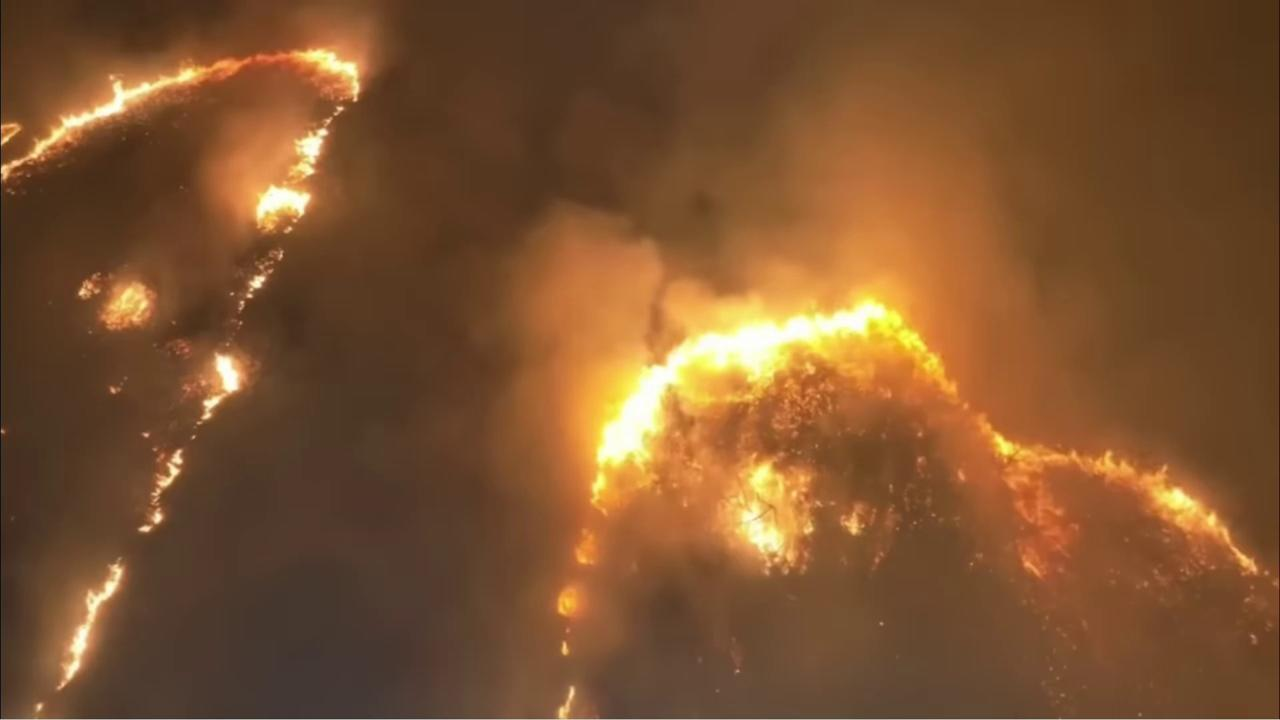fire: (556, 294, 1262, 668), (0, 44, 366, 237), (165, 316, 278, 431), (48, 554, 126, 693), (71, 263, 166, 345), (116, 444, 187, 533), (222, 246, 285, 313), (551, 680, 582, 720), (0, 120, 24, 148), (34, 700, 47, 715)
smoke: (0, 0, 1280, 720)
